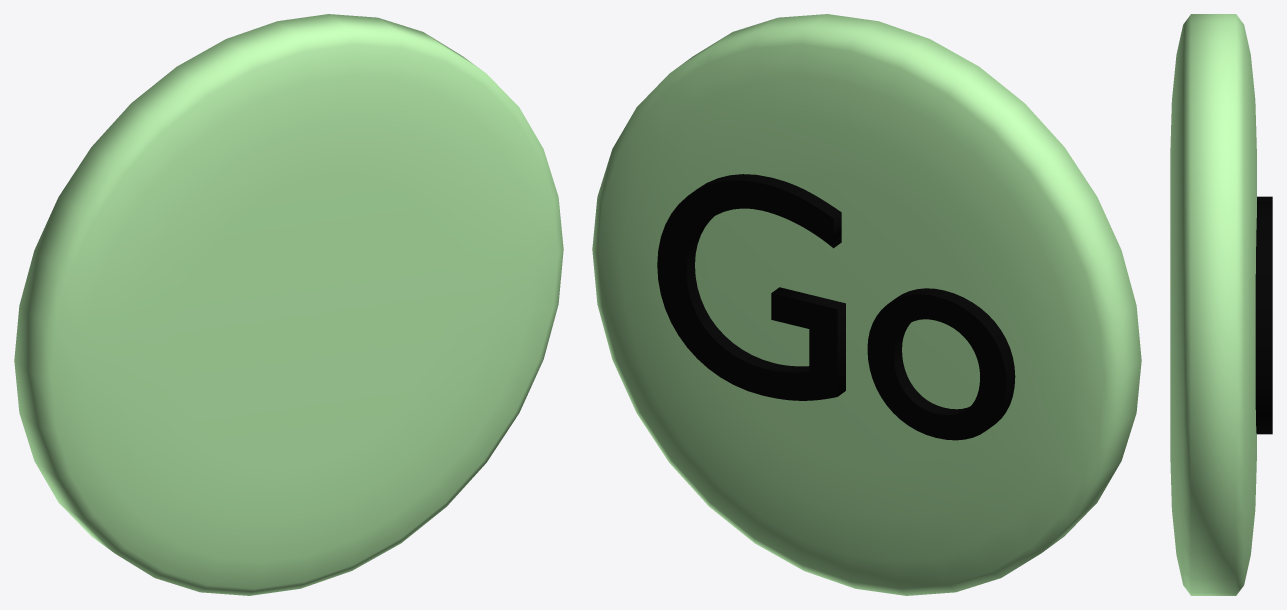
File: btn1.glb
3 renders of one model, left to right at view 1: azimuth 30°, elevation 25°; view 2: azimuth 150°, elevation 25°; view 3: azimuth 270°, elevation 25°, orthographic. The views are drawn at different scales.
Parts seen in each view (by area): view 1: Cylinder; view 2: Cylinder, m; view 3: Cylinder, m.
Boxes of the visible parts, bbox=[...] form: Cylinder: bbox=[14, 14, 563, 595]; Cylinder: bbox=[592, 14, 1141, 595]; m: bbox=[657, 174, 1015, 440]; Cylinder: bbox=[1170, 14, 1256, 595]; m: bbox=[1255, 196, 1272, 434].
Size of the model in its own units: 1.28 by 1.28 by 0.2243.
